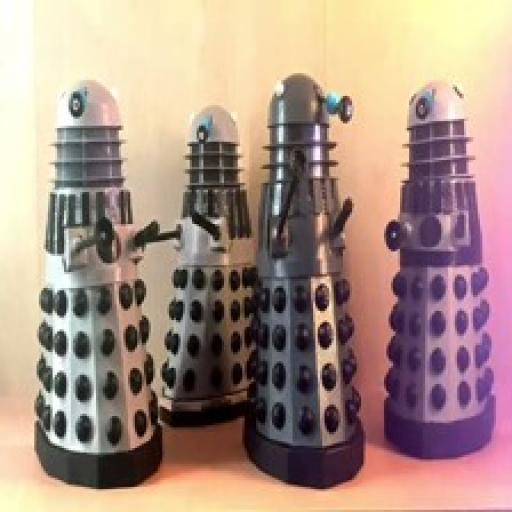dalek: (32, 79, 163, 483), (240, 67, 366, 486), (380, 78, 496, 458), (155, 100, 258, 428)
